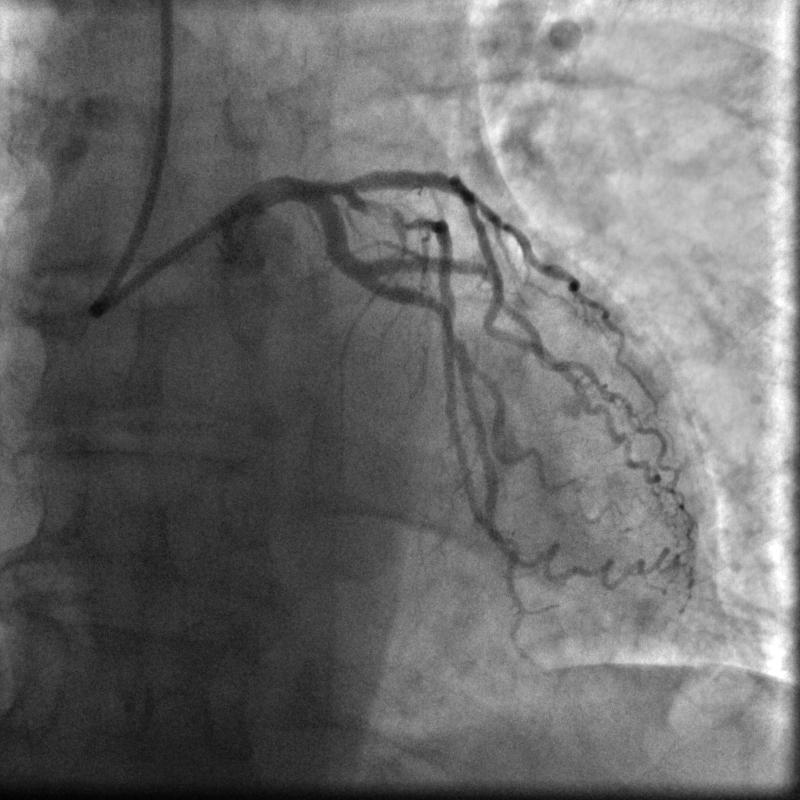Stenosis: (356, 193, 412, 236)
